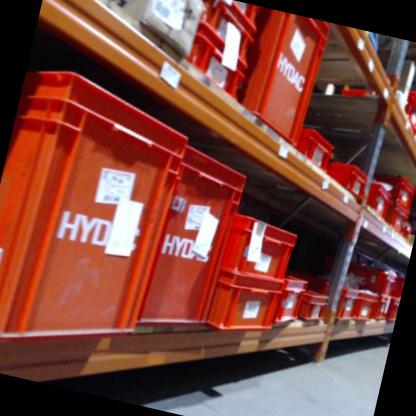small_load_carrier: (0, 62, 194, 371), (140, 144, 250, 335), (227, 7, 331, 150), (219, 212, 300, 297), (165, 29, 252, 100), (205, 272, 284, 341), (174, 0, 260, 57), (312, 278, 381, 323), (334, 254, 398, 295), (274, 273, 310, 335), (293, 127, 339, 174), (324, 160, 370, 202), (358, 181, 397, 230), (311, 287, 362, 323), (376, 173, 416, 215), (206, 0, 263, 28), (299, 288, 330, 321), (400, 89, 416, 138), (387, 210, 410, 236), (373, 296, 392, 321), (392, 272, 405, 296), (388, 301, 399, 318)
